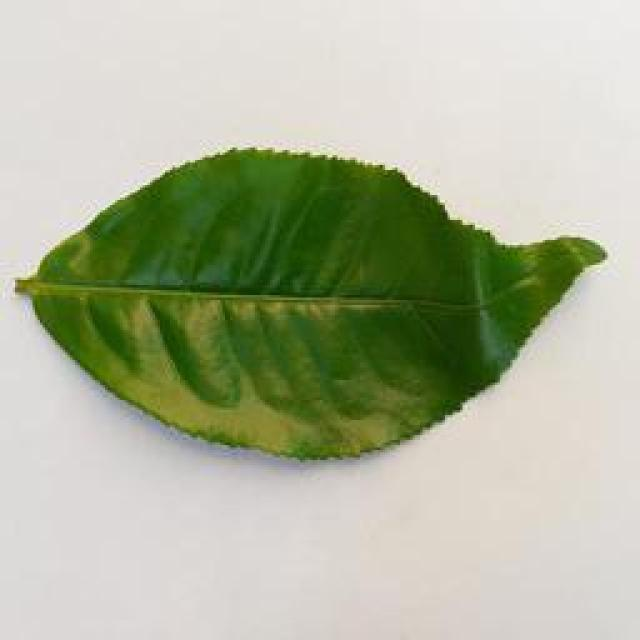Healthy: (10, 139, 618, 459)
